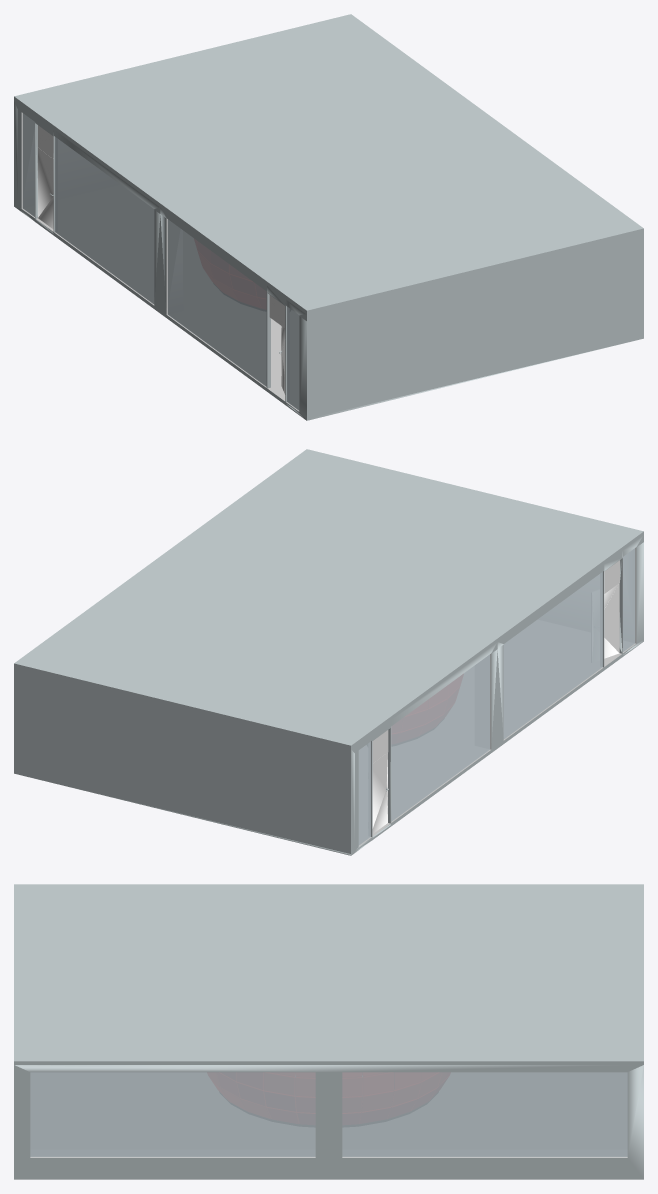
File: InnovationLab.glb
3 views of the same model, one above another, from view 1: azimuth 30°, elevation 25°; view 2: azimuth 150°, elevation 25°; view 3: azimuth 270°, elevation 25° (orthographic). The views are drawn at different scales.
Parts seen in each view (by area): view 1: polySurface434, polySurface423, polySurface427, polySurface426, polySurface425, polySurface431, polySurface430, polySurface5; view 2: polySurface434, polySurface423, polySurface426, polySurface427, polySurface430, polySurface431, polySurface5, polySurface1, polySurface425; view 3: polySurface434, polySurface423, polySurface428, polySurface429, polySurface424.
Boxes of the visible parts, <box> form: polySurface434: <box>14,14,643,313</box>; polySurface423: <box>14,100,643,420</box>; polySurface427: <box>167,219,266,386</box>; polySurface426: <box>55,137,154,304</box>; polySurface425: <box>22,208,299,411</box>; polySurface431: <box>287,306,299,410</box>; polySurface430: <box>22,113,34,216</box>; polySurface5: <box>38,148,53,229</box>; polySurface434: <box>14,449,643,748</box>; polySurface423: <box>14,535,643,855</box>; polySurface426: <box>391,654,490,821</box>; polySurface427: <box>503,572,602,739</box>; polySurface430: <box>358,741,370,845</box>; polySurface431: <box>623,548,635,651</box>; polySurface5: <box>372,753,387,833</box>; polySurface1: <box>604,583,619,658</box>; polySurface425: <box>358,643,635,846</box>; polySurface434: <box>14,884,643,1064</box>; polySurface423: <box>14,1065,643,1179</box>; polySurface428: <box>342,1072,627,1156</box>; polySurface429: <box>30,1072,315,1156</box>; polySurface424: <box>30,1156,627,1157</box>.
Bounding box in the file's own units: 10.25 × 3.2 × 15.42.
